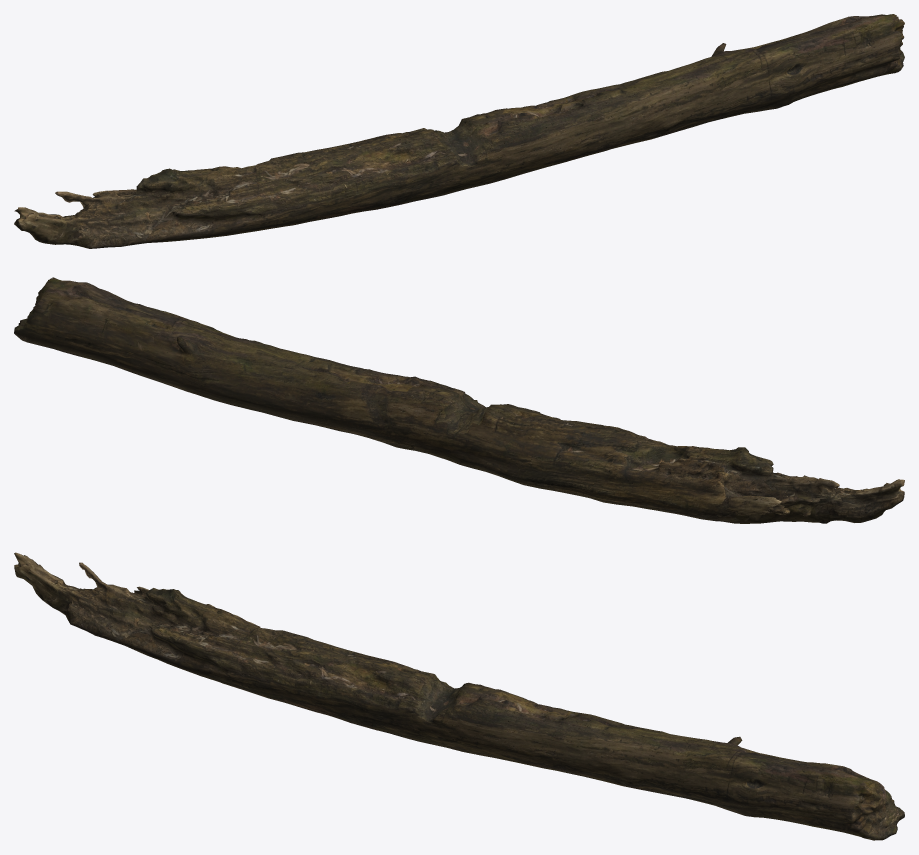
File: bg_dead_tree_trunk.glb
The picture shows the model from 3 angles, top to bottom: view 1: azimuth 30°, elevation 25°; view 2: azimuth 150°, elevation 25°; view 3: azimuth 330°, elevation 25°; orthographic projection.
Visible parts, largest first — view 1: bg_dead_tree_trunk; view 2: bg_dead_tree_trunk; view 3: bg_dead_tree_trunk.
Boxes of the visible parts, x1,y1,x2,y2 form: bg_dead_tree_trunk: (14, 14, 904, 248); bg_dead_tree_trunk: (14, 277, 904, 523); bg_dead_tree_trunk: (14, 552, 904, 840).
Size of the model in its own units: 4 by 0.3794 by 0.3628.
1 material, 1 textured.
